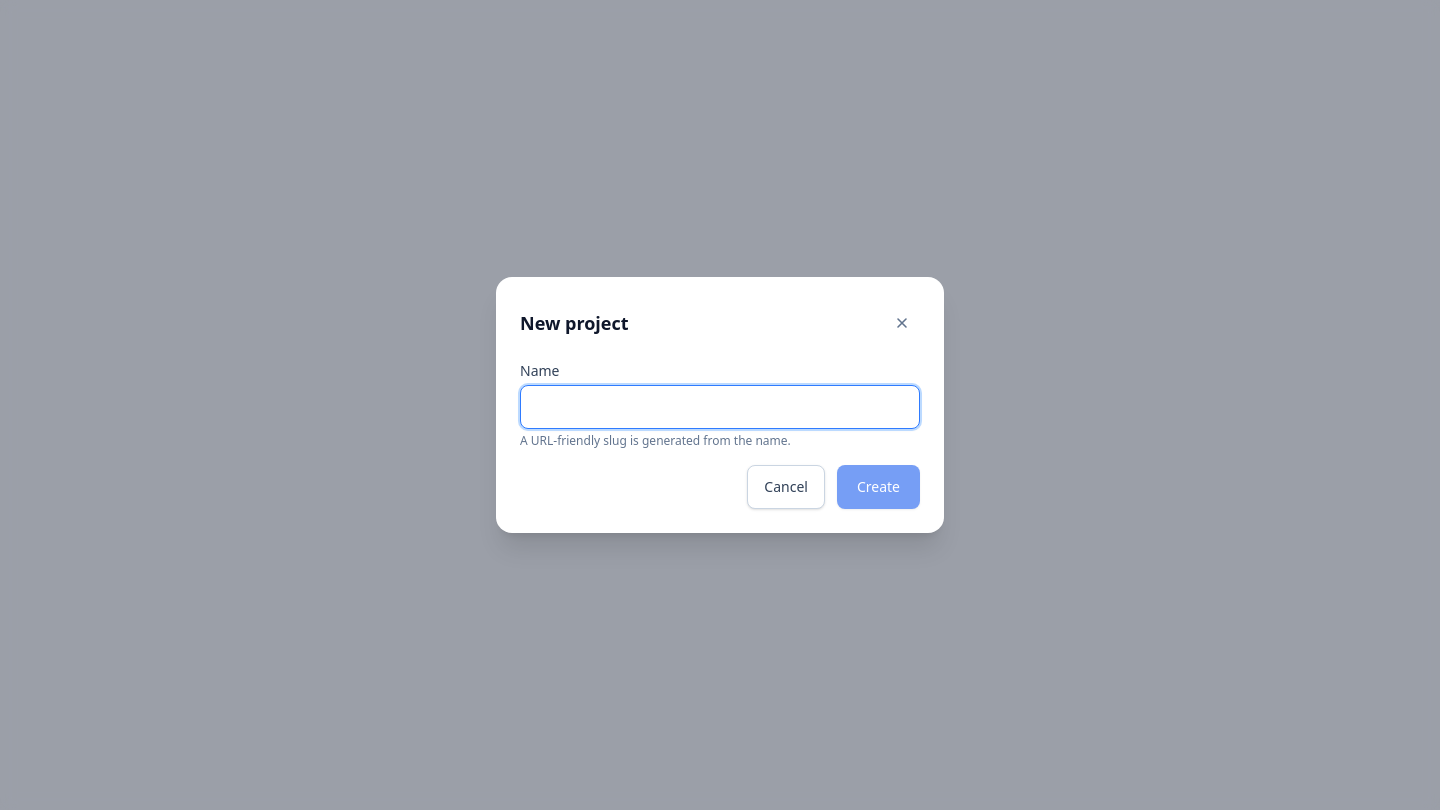
Test: CreateProjectModal › surfaces an HTTP error and leaves the modal open
The width and height of the screenshot is (1440, 810).
Type "Kitchen" into the field labelled "Name" at (720, 407), box x1=520 y1=385 x2=920 y2=429
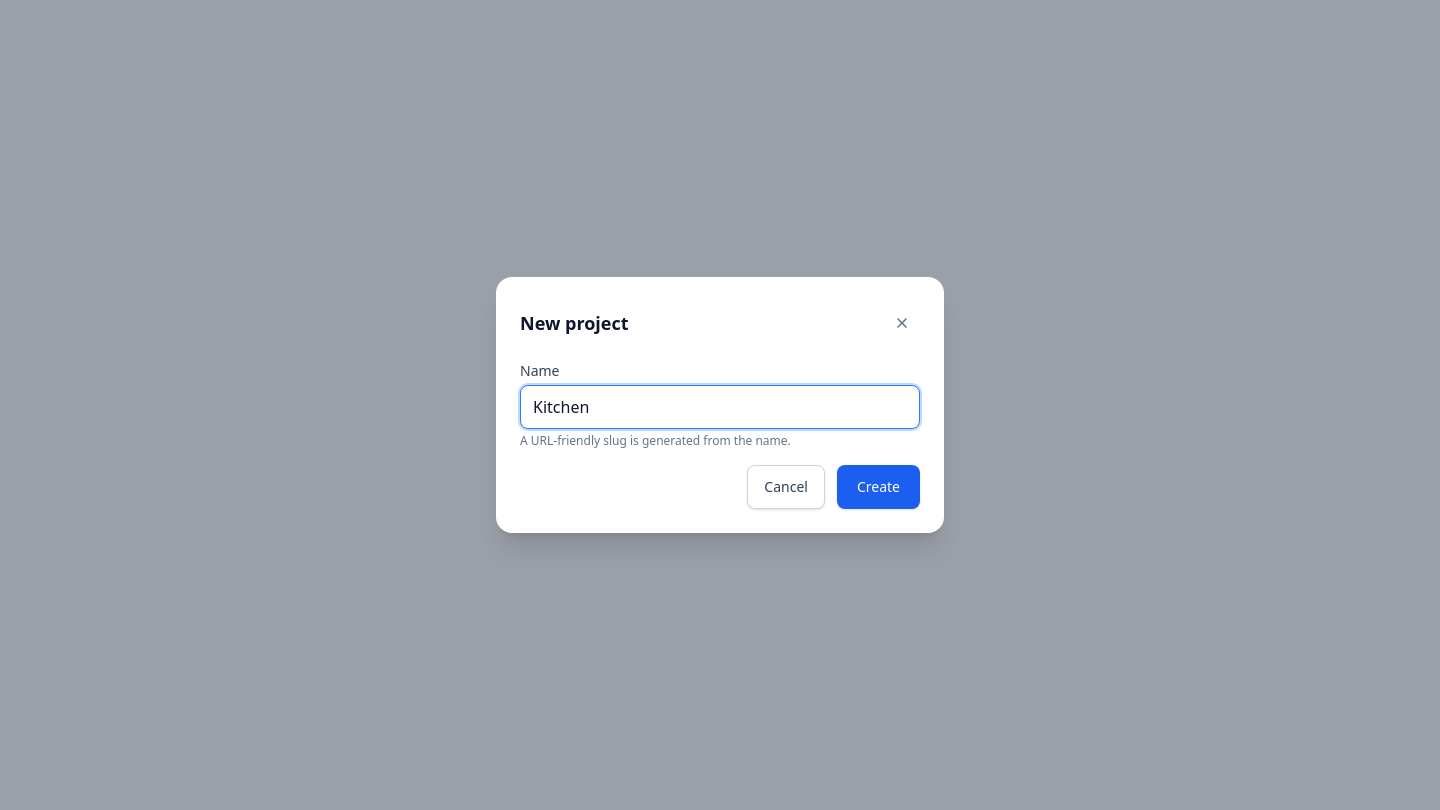
Click the button "Create" at (878, 487), box x1=837 y1=465 x2=920 y2=509
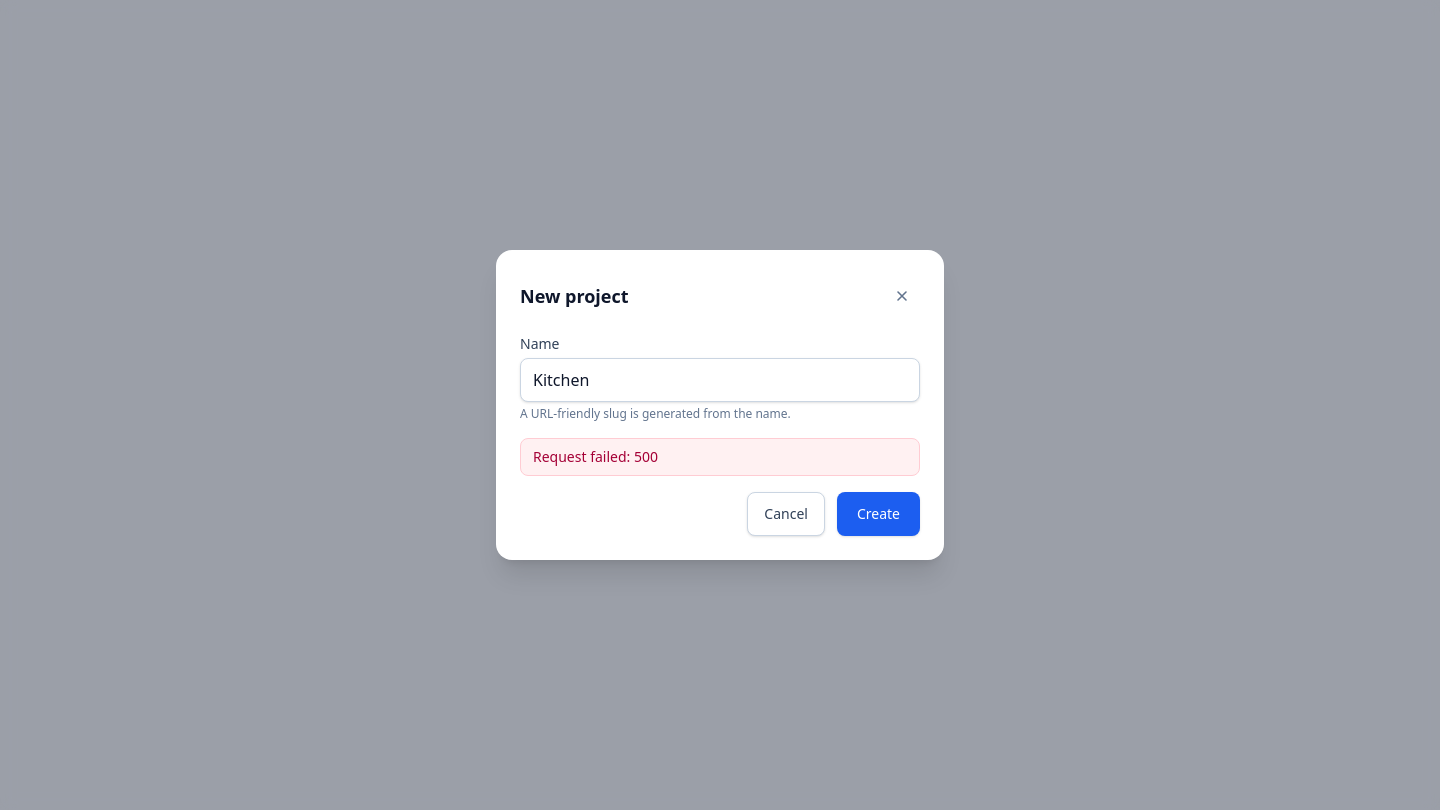
Now the message shows "500", box x1=533 y1=447 x2=658 y2=466
